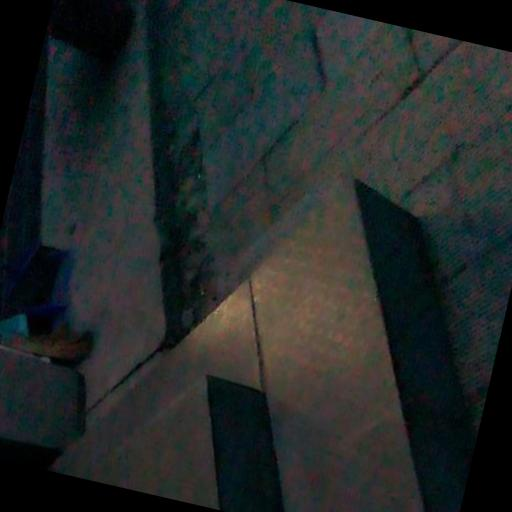stairs: (130, 179, 474, 511)
